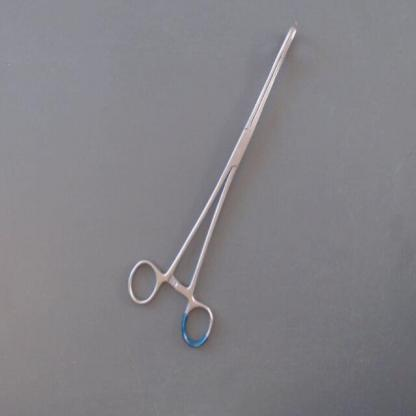Sponge Forceps: (121, 16, 311, 355)
